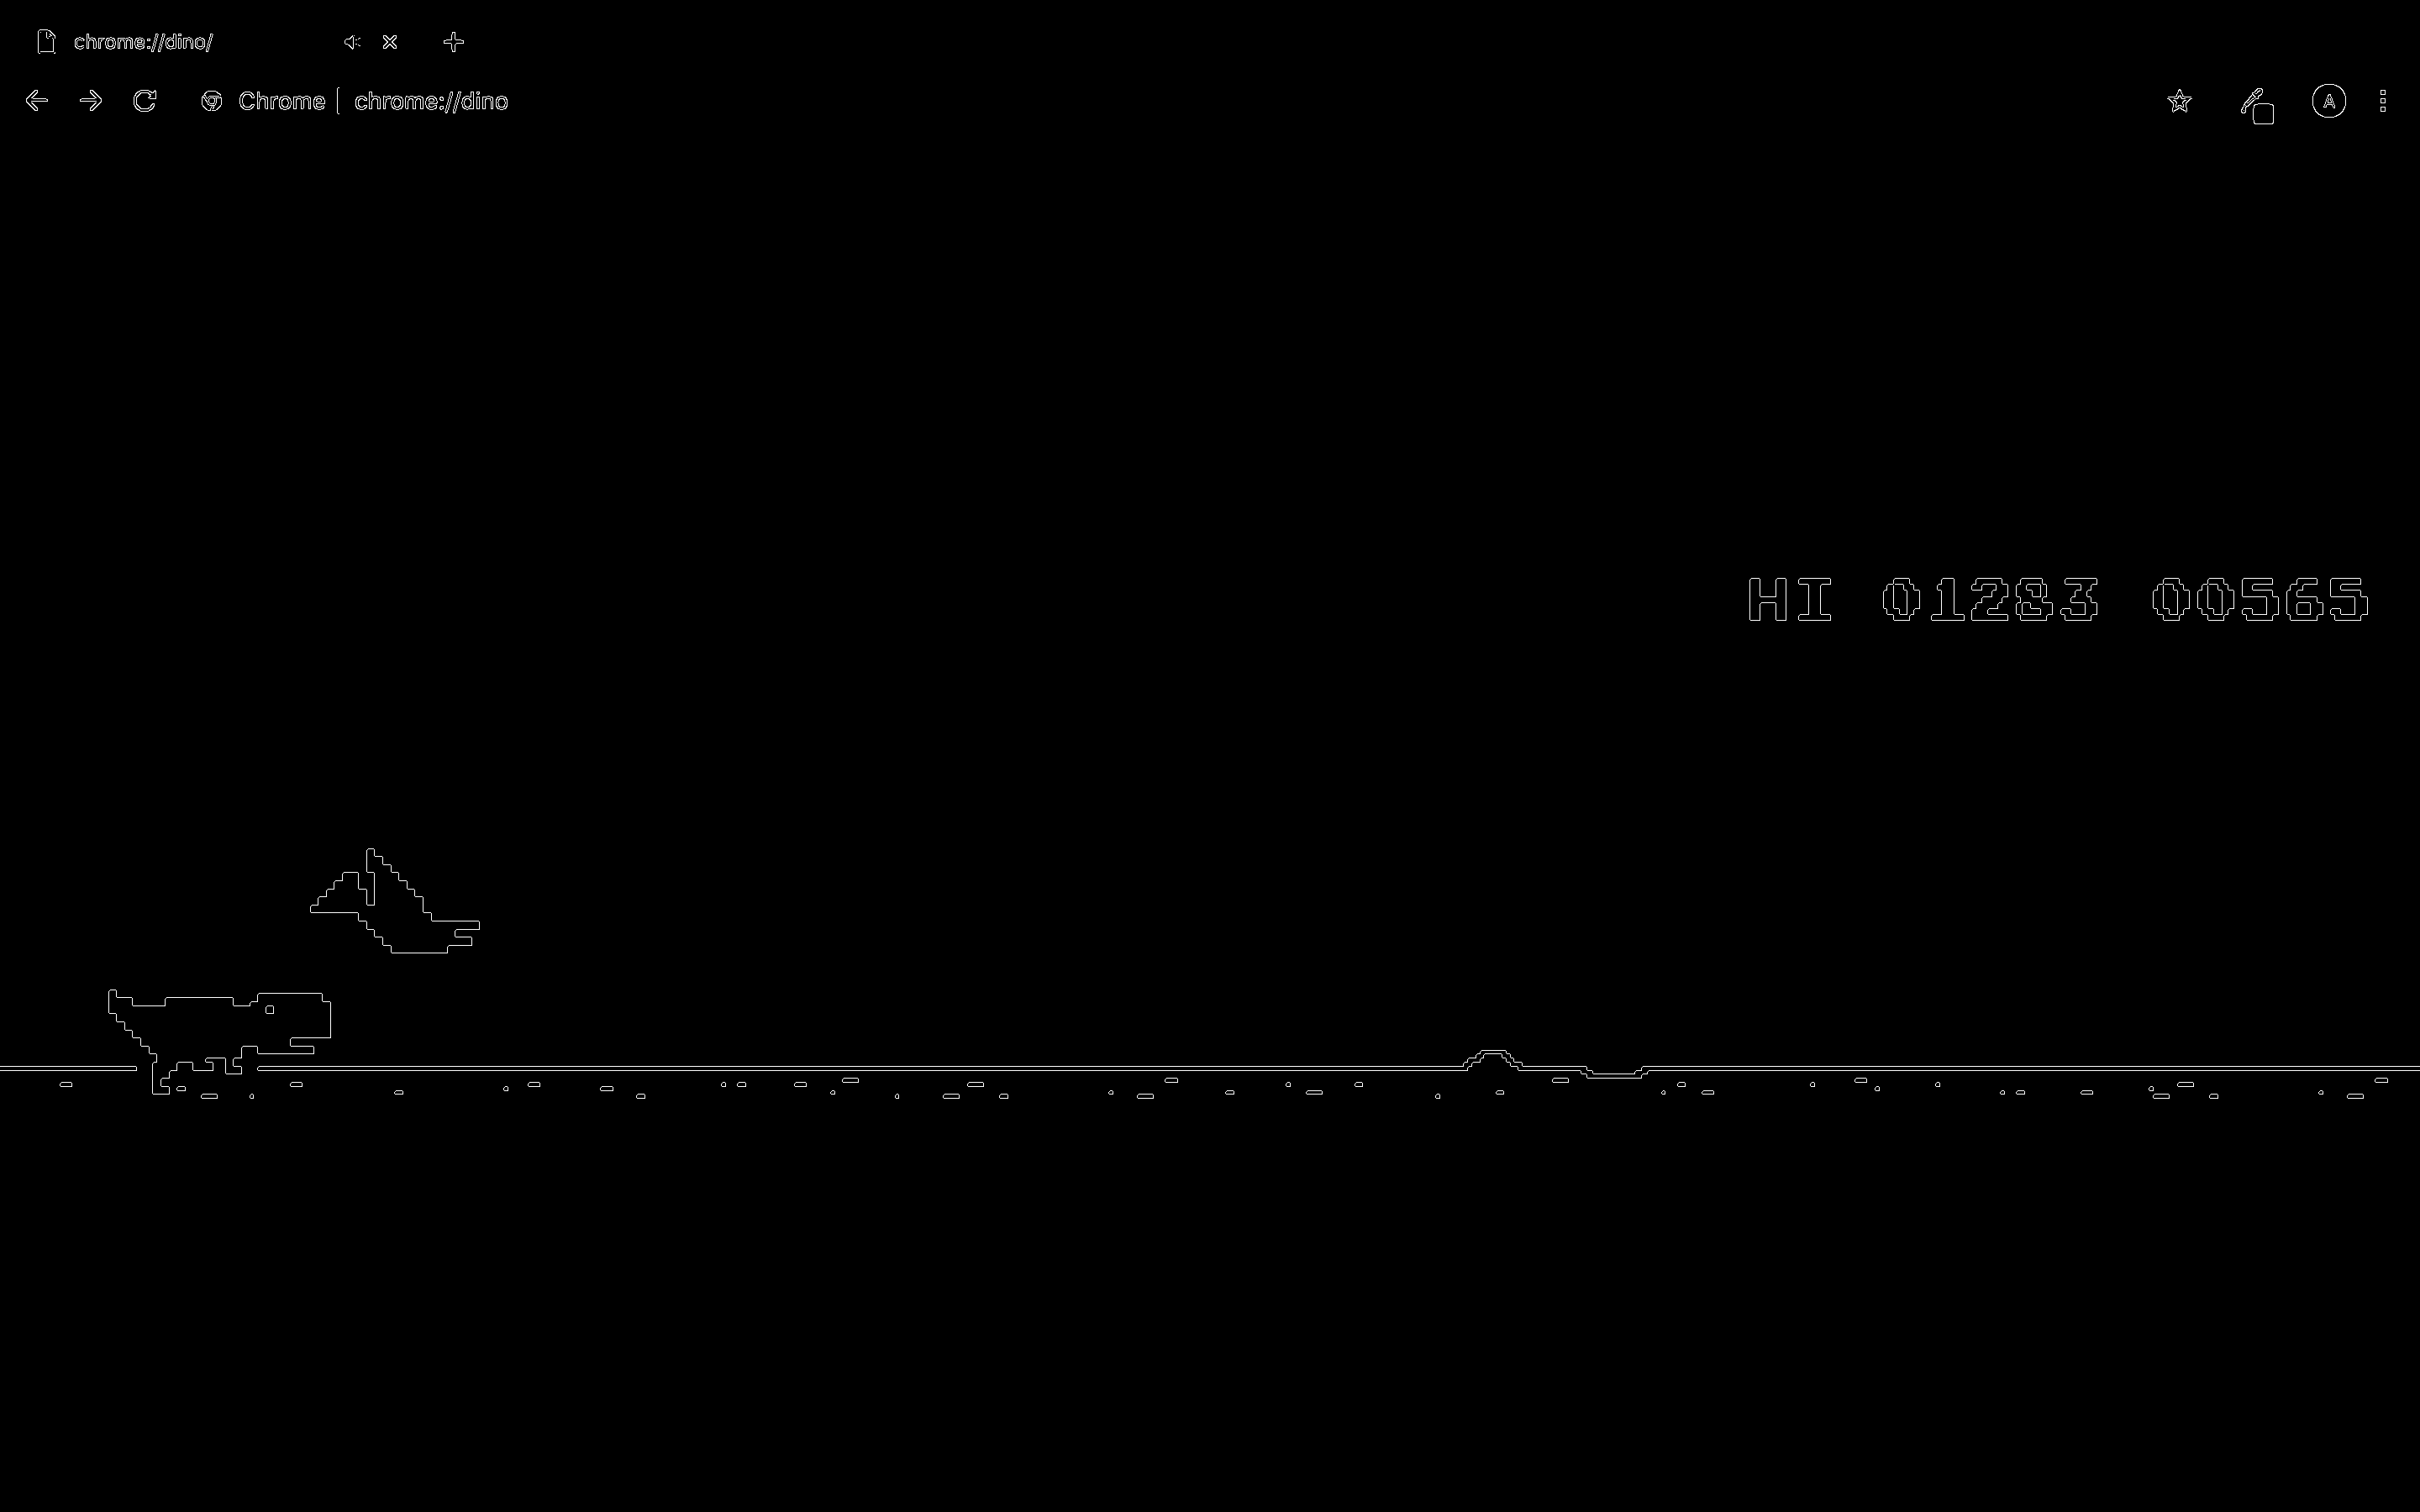Bird: (310, 852, 488, 960)
Dino: (108, 988, 341, 1092)
